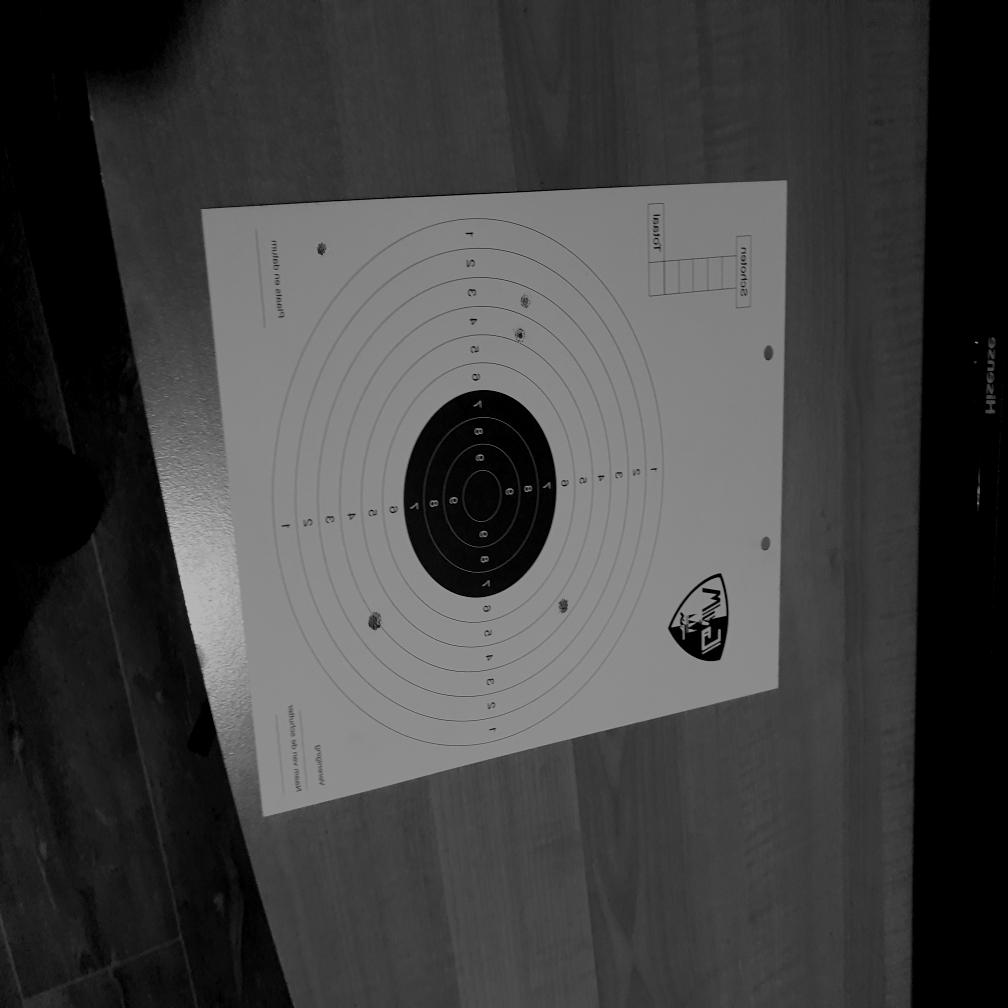0: (315, 239, 329, 258)
3: (520, 293, 532, 308)
4: (368, 611, 382, 631), (558, 598, 568, 614)
5: (512, 327, 526, 343)
Target: (272, 218, 665, 746)
black_contour: (404, 390, 557, 597)
